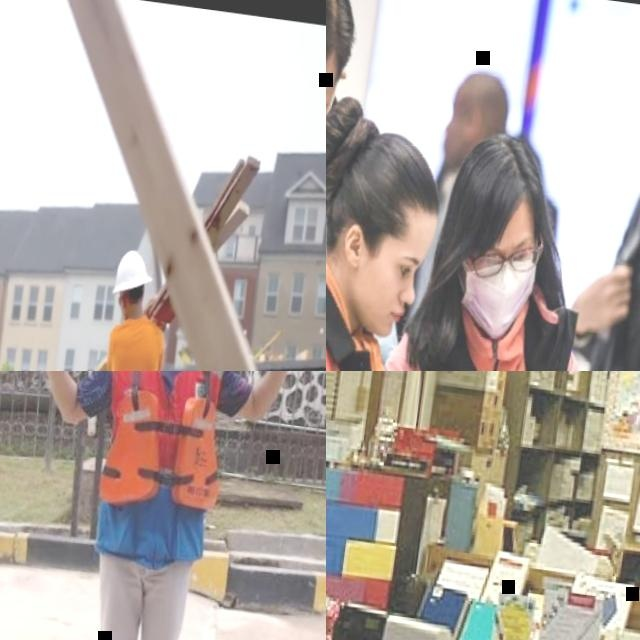Hardhat: (113, 245, 157, 298)
Mask: (454, 250, 539, 340)
NO-Hardhat: (326, 122, 452, 225), (451, 122, 544, 220), (452, 68, 511, 113)
NO-Mask: (350, 281, 405, 336), (437, 134, 469, 165)
NO-Safety Vest: (592, 148, 640, 371), (97, 312, 168, 371)
Person: (0, 371, 323, 640), (353, 112, 640, 371), (326, 78, 530, 371), (521, 0, 640, 371), (67, 243, 180, 371), (434, 65, 514, 189)
Safety Vest: (91, 371, 237, 515)
